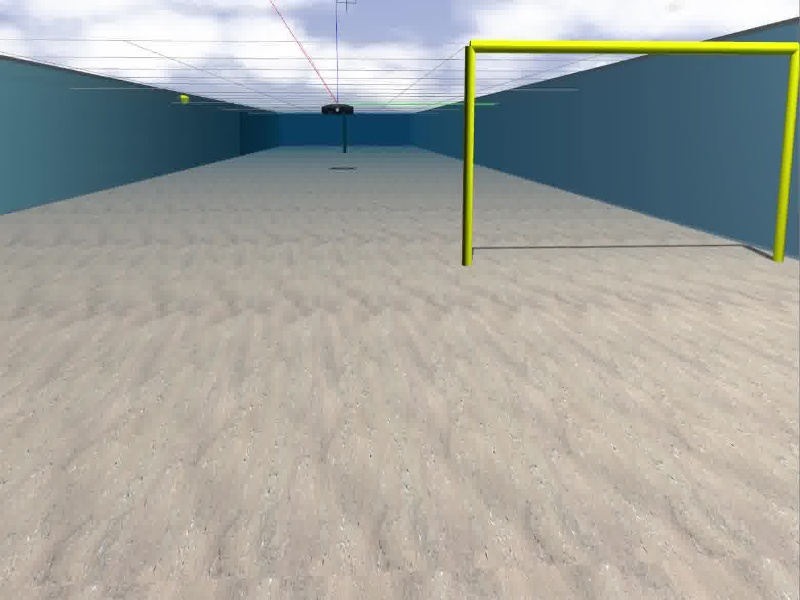gate: (461, 38, 800, 265)
